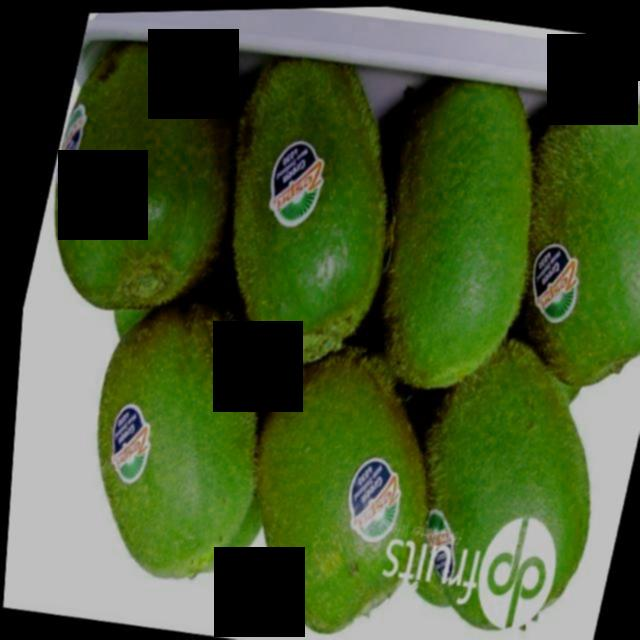kiwi: (181, 47, 422, 375), (58, 281, 297, 603), (209, 335, 457, 640), (343, 70, 570, 402), (385, 335, 627, 640), (25, 33, 260, 324), (483, 93, 640, 403)
